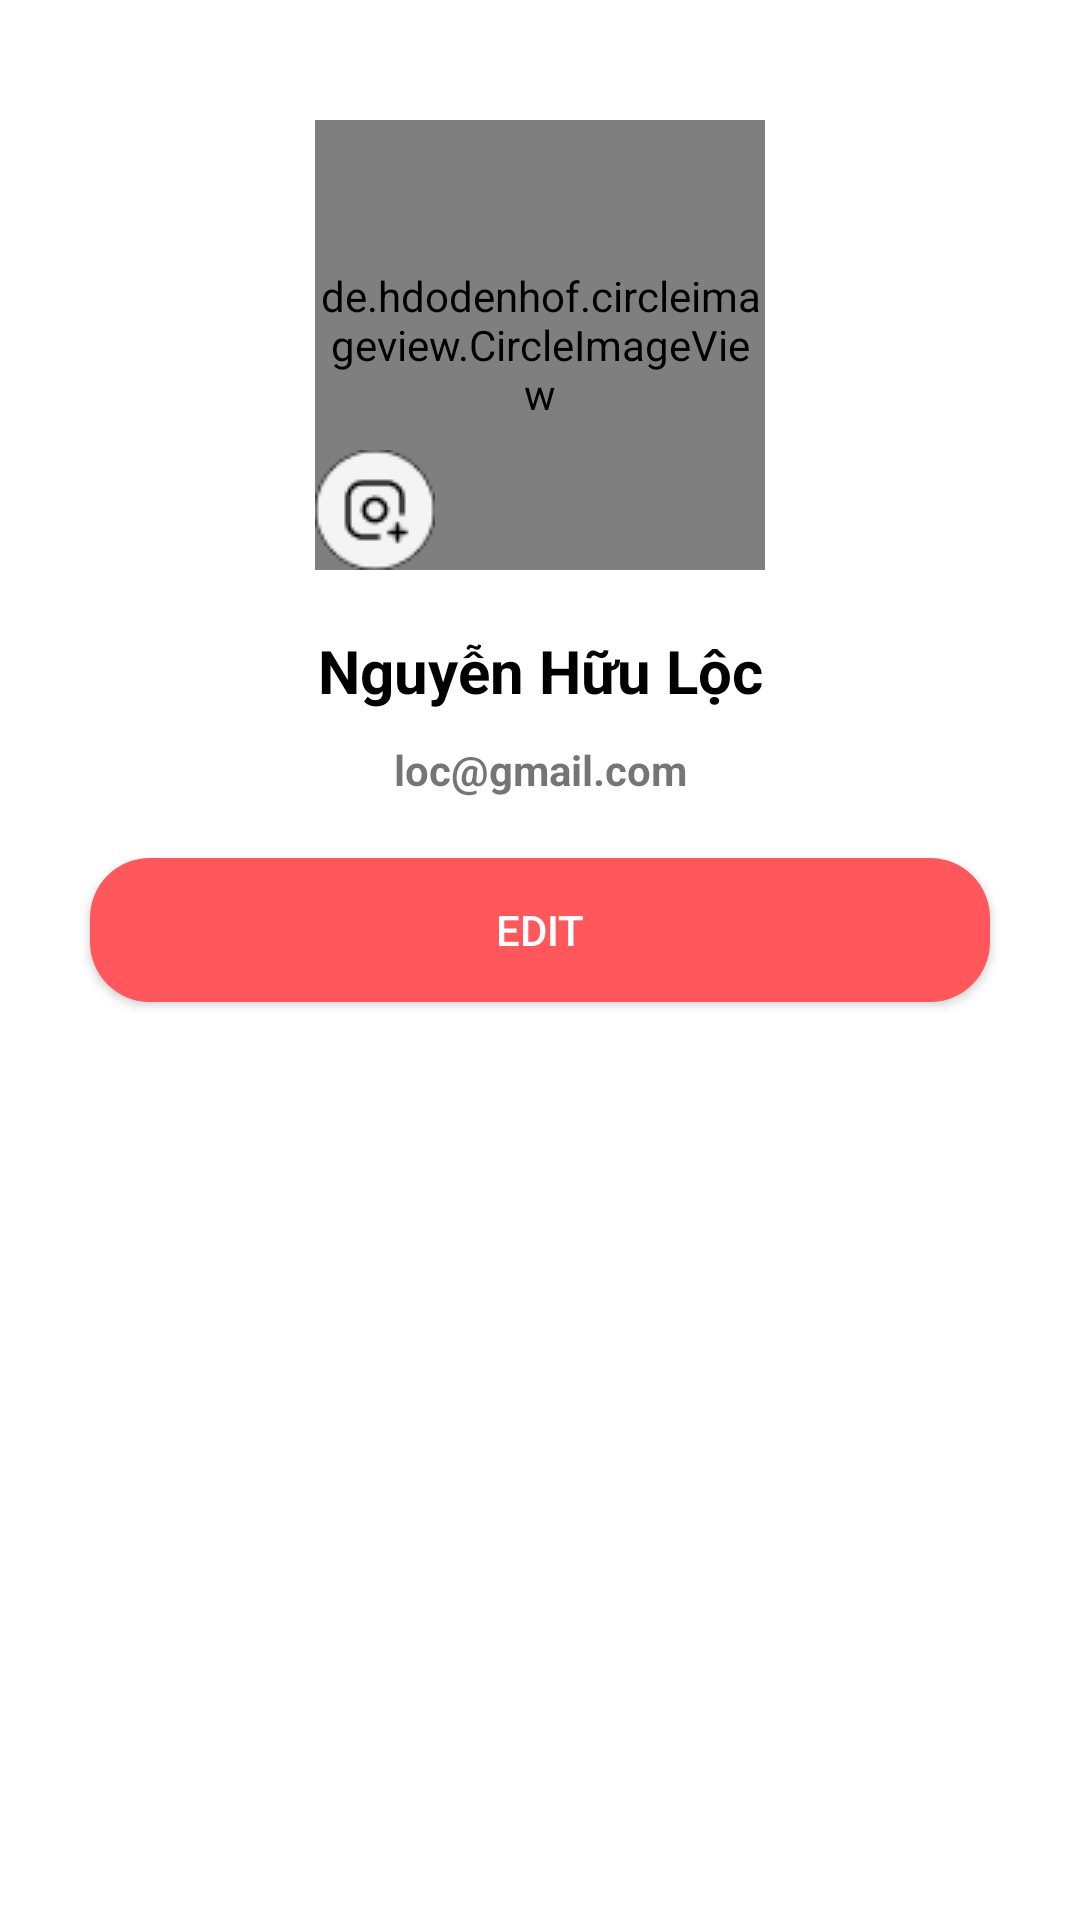

Where to tap for icons on this 1080 × 1920 app screen, as (x=x, y=y):
camera: (x=375, y=510)
